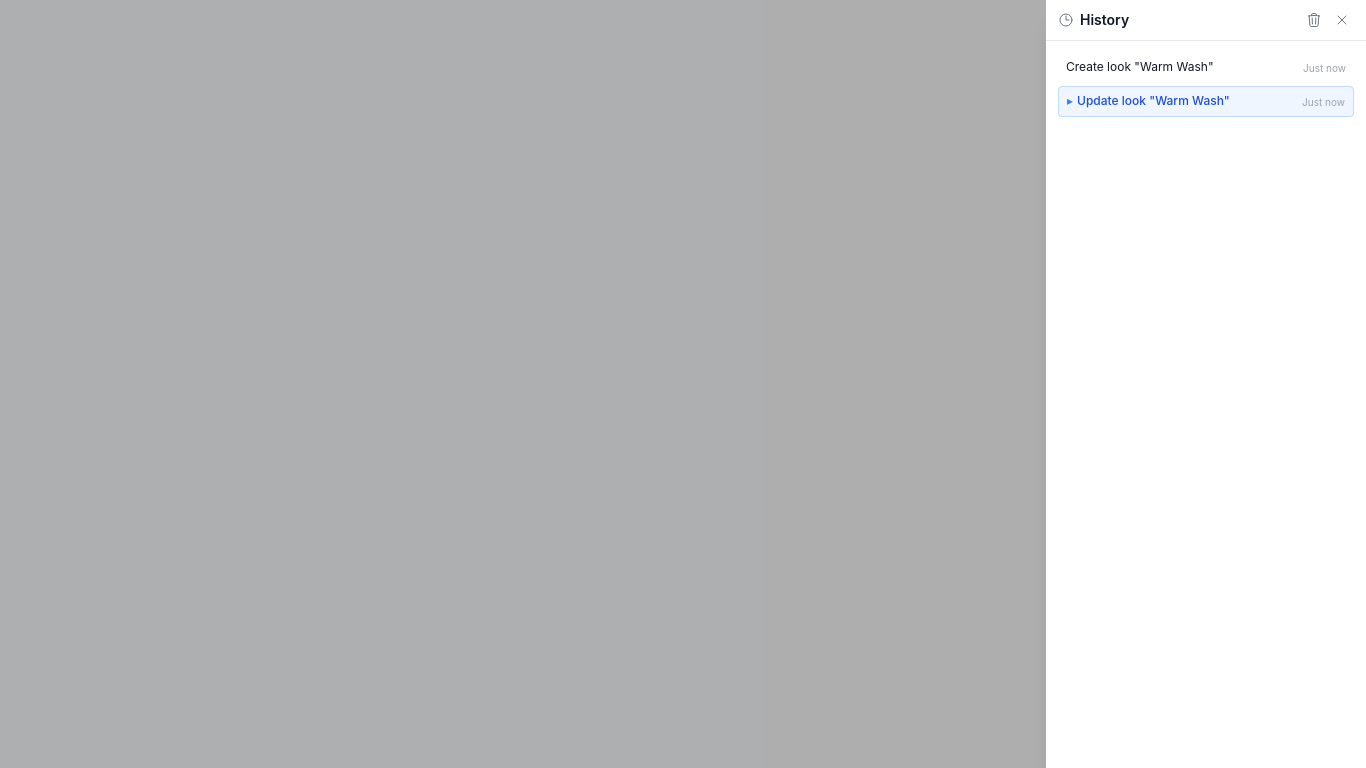
Scenario: OperationHistoryPanel error handling › allows dismissing error toast
The width and height of the screenshot is (1366, 768).
Expected: the text "Create look \"Warm Wash\"" is shown, [1066,59,1214,76]
What coordinates should you click on to do the following:
click the button "Create look \"Warm Wash\" Just now"
I would click on:
 (1206, 68)
Its box is [1058,53,1354,82].
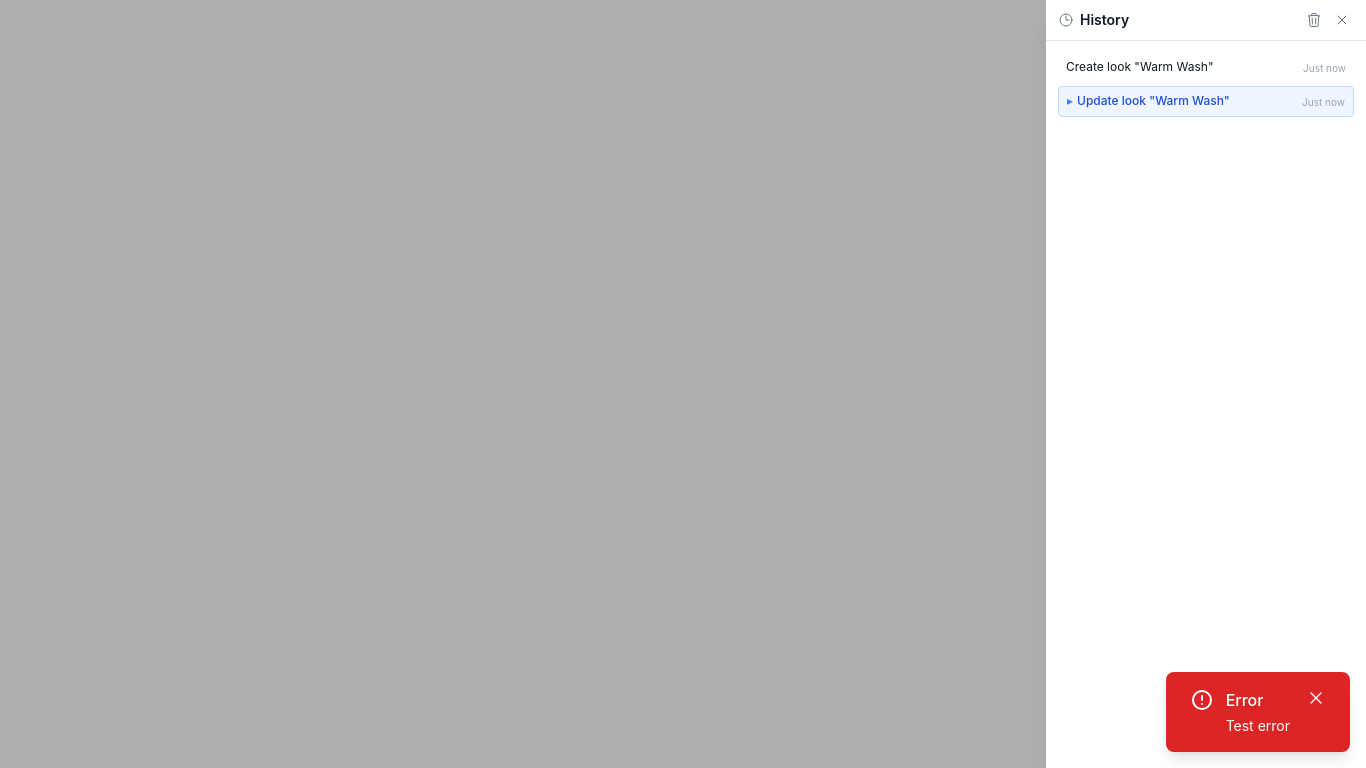
Result: the heading "Error" is shown at [1226,690,1263,710]
Click dismiss button
What coordinates should you click on to do the following:
click the button named "dismiss error"
I would click on:
 (1316, 698)
Its box is [1306,688,1326,708].
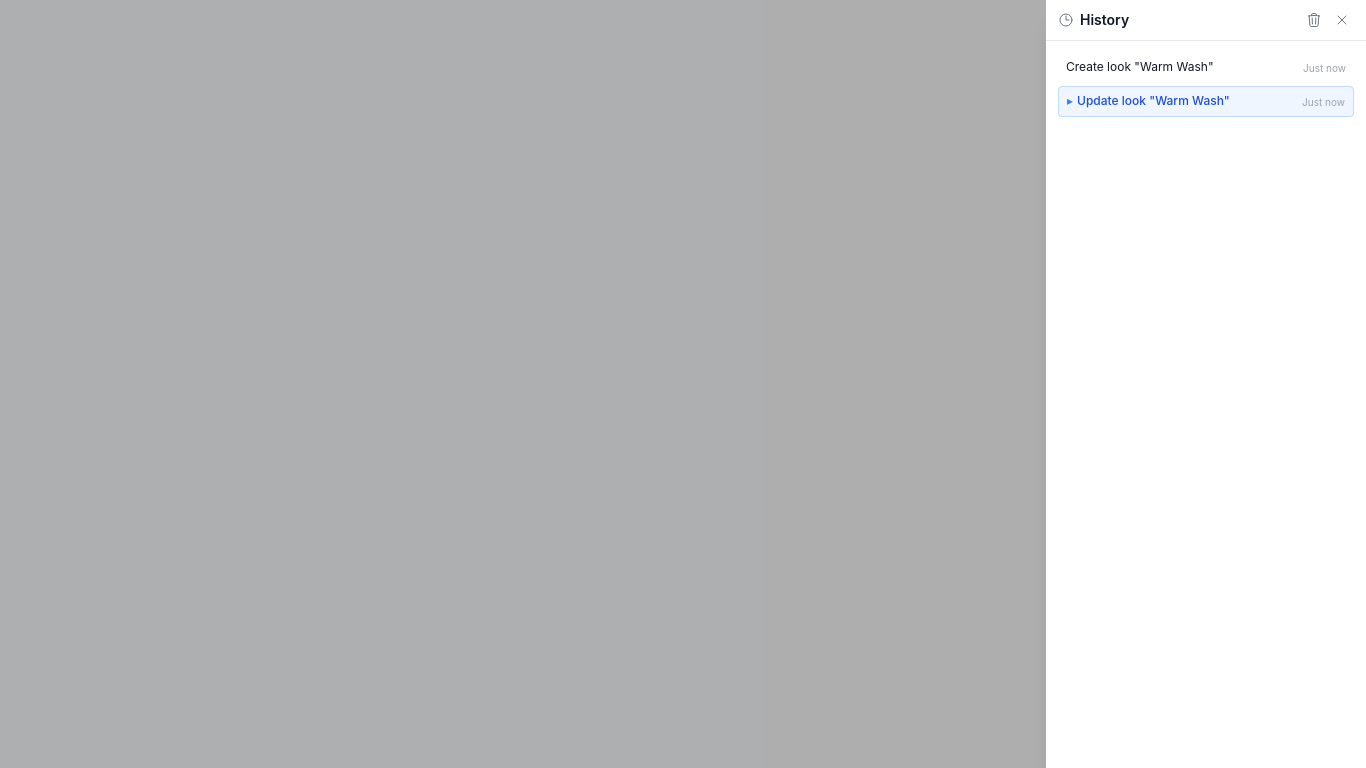
Result: the text "Test error" is gone
